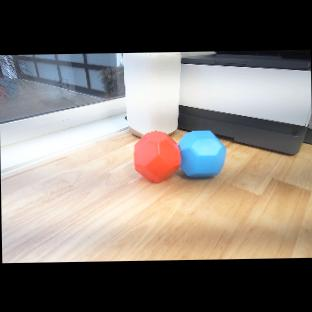V5_BLUE: (182, 128, 227, 179)
V5_RED: (133, 130, 181, 183)
pieces: (128, 126, 231, 185)
